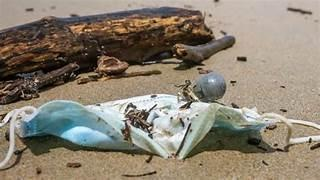Mask: (0, 94, 319, 167)
